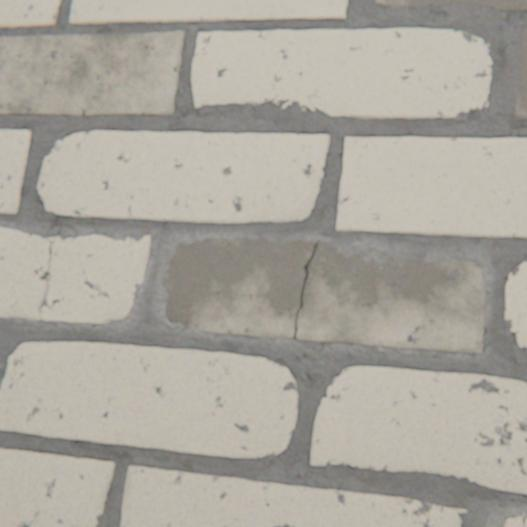brick: (0, 342, 297, 457), (311, 366, 526, 493), (192, 29, 491, 119), (38, 132, 330, 223), (121, 465, 465, 526), (336, 138, 526, 238), (0, 32, 185, 116), (0, 447, 115, 526), (70, 0, 347, 25), (0, 131, 32, 213), (376, 0, 526, 13), (504, 262, 526, 347), (0, 0, 61, 28), (514, 29, 526, 122)
broken_brick: (297, 243, 484, 352), (165, 238, 314, 338), (0, 227, 151, 323), (504, 515, 521, 526), (524, 517, 526, 526)
crack: (292, 241, 318, 340), (39, 230, 61, 317), (521, 509, 526, 526)
